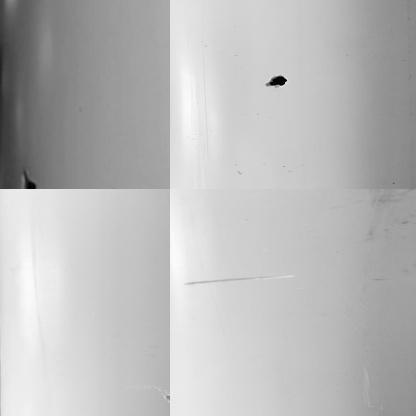kongdong: (16, 167, 41, 191), (261, 73, 289, 92)
sunshang: (182, 272, 304, 285)
